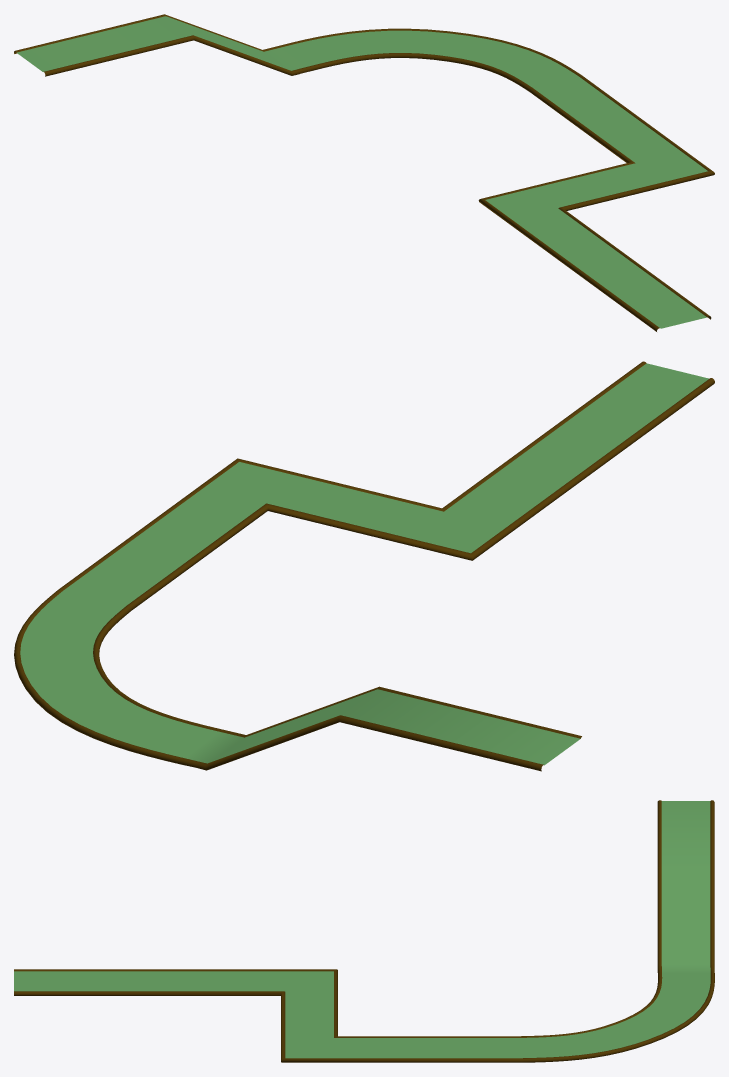
File: Golfbaan-test.FBX
The picture shows the model from 3 angles, top to bottom: view 1: azimuth 30°, elevation 25°; view 2: azimuth 150°, elevation 25°; view 3: azimuth 270°, elevation 25°; orthographic projection. The views are drawn at different scales.
Parts seen in each view (by area): view 1: Baan-test; view 2: Baan-test; view 3: Baan-test.
Part boxes in pixels (x1,y1,x2,y2): Baan-test: [14, 14, 714, 331]; Baan-test: [14, 361, 714, 771]; Baan-test: [14, 800, 714, 1062].
Bounding box in the file's own units: 3961 × 520 × 5720.
